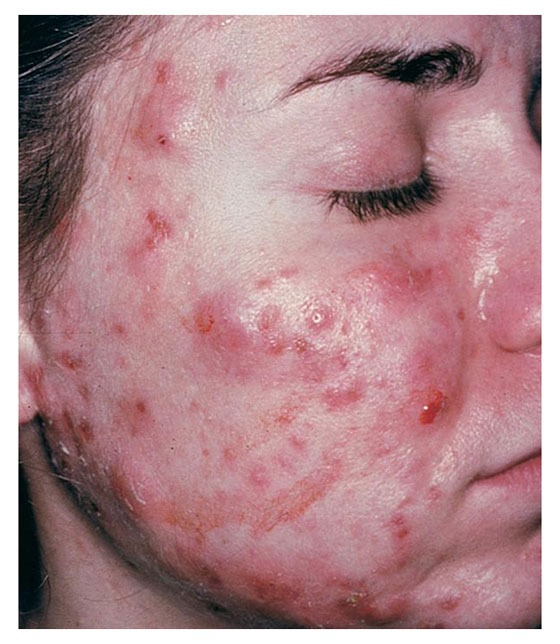Acne: (127, 198, 180, 262), (400, 377, 445, 438), (147, 115, 182, 167), (300, 297, 332, 343)
